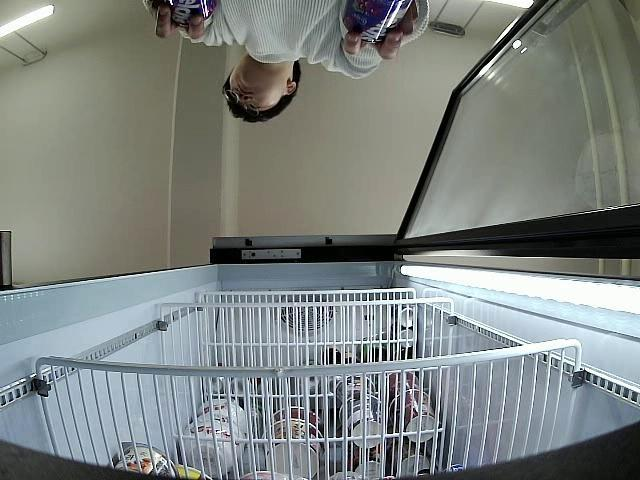14_welchsGrape: (342, 0, 412, 45), (150, 0, 217, 29)
